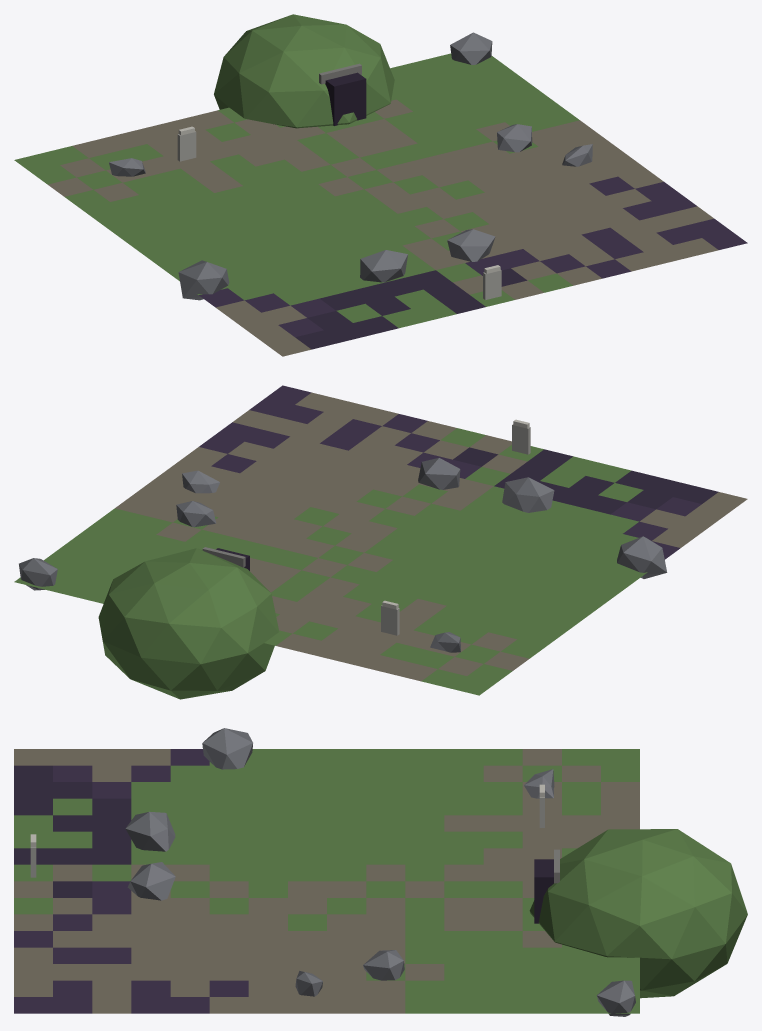
Rendered from chunk_1_22.glb.
3 views of the same model, one above another, from view 1: azimuth 30°, elevation 25°; view 2: azimuth 150°, elevation 25°; view 3: azimuth 270°, elevation 25° (orthographic). The views are drawn at different scales.
Visible parts, largest first — view 1: chunk_1_22; view 2: chunk_1_22; view 3: chunk_1_22.
Boxes of the visible parts, <box> form: chunk_1_22: <box>14,14,747,356</box>; chunk_1_22: <box>14,385,747,699</box>; chunk_1_22: <box>14,728,747,1016</box>.
Bounding box in the file's own units: 16.47 × 4.2 × 18.76.
